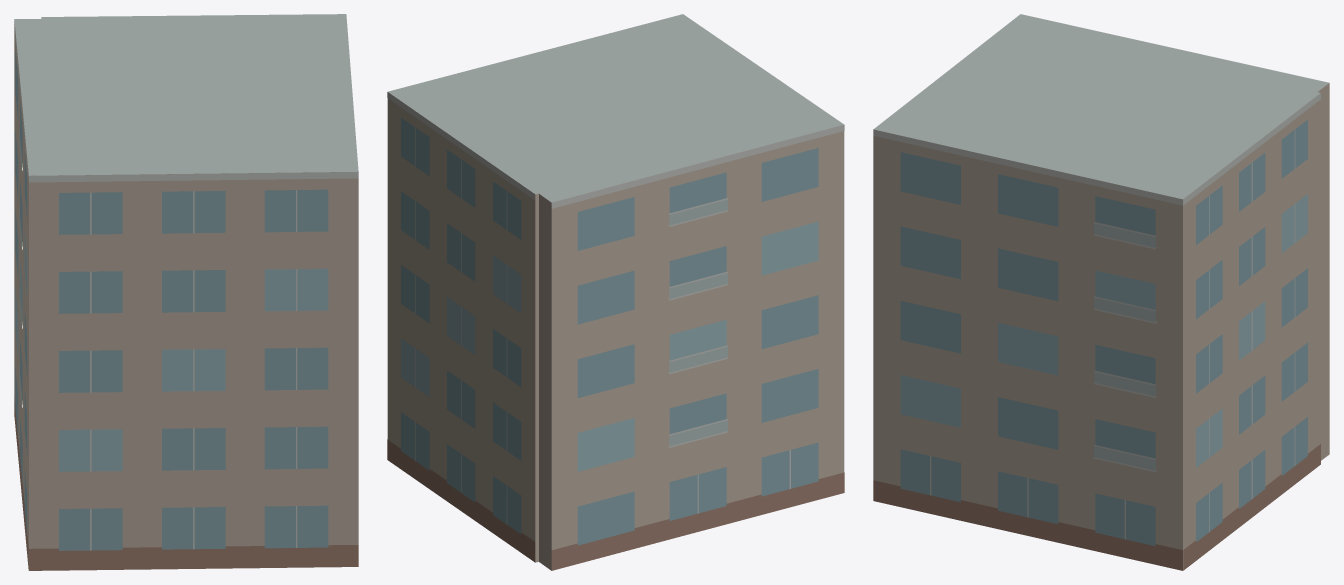
The model's file is survey-upis-32657324.glb.
3 views of the same model, side by side, from view 1: azimuth 30°, elevation 25°; view 2: azimuth 150°, elevation 25°; view 3: azimuth 270°, elevation 25° (orthographic). The views are drawn at different scales.
Parts seen in each view (by area): view 1: survey-upis-32657324.tmp; view 2: survey-upis-32657324.tmp; view 3: survey-upis-32657324.tmp.
Boxes of the visible parts, left/top/right/bottom form: survey-upis-32657324.tmp: left=14, top=14, right=358, bottom=570; survey-upis-32657324.tmp: left=387, top=14, right=844, bottom=570; survey-upis-32657324.tmp: left=873, top=14, right=1329, bottom=570.
Bounding box in the file's own units: 15.42 × 14.4 × 16.04.
